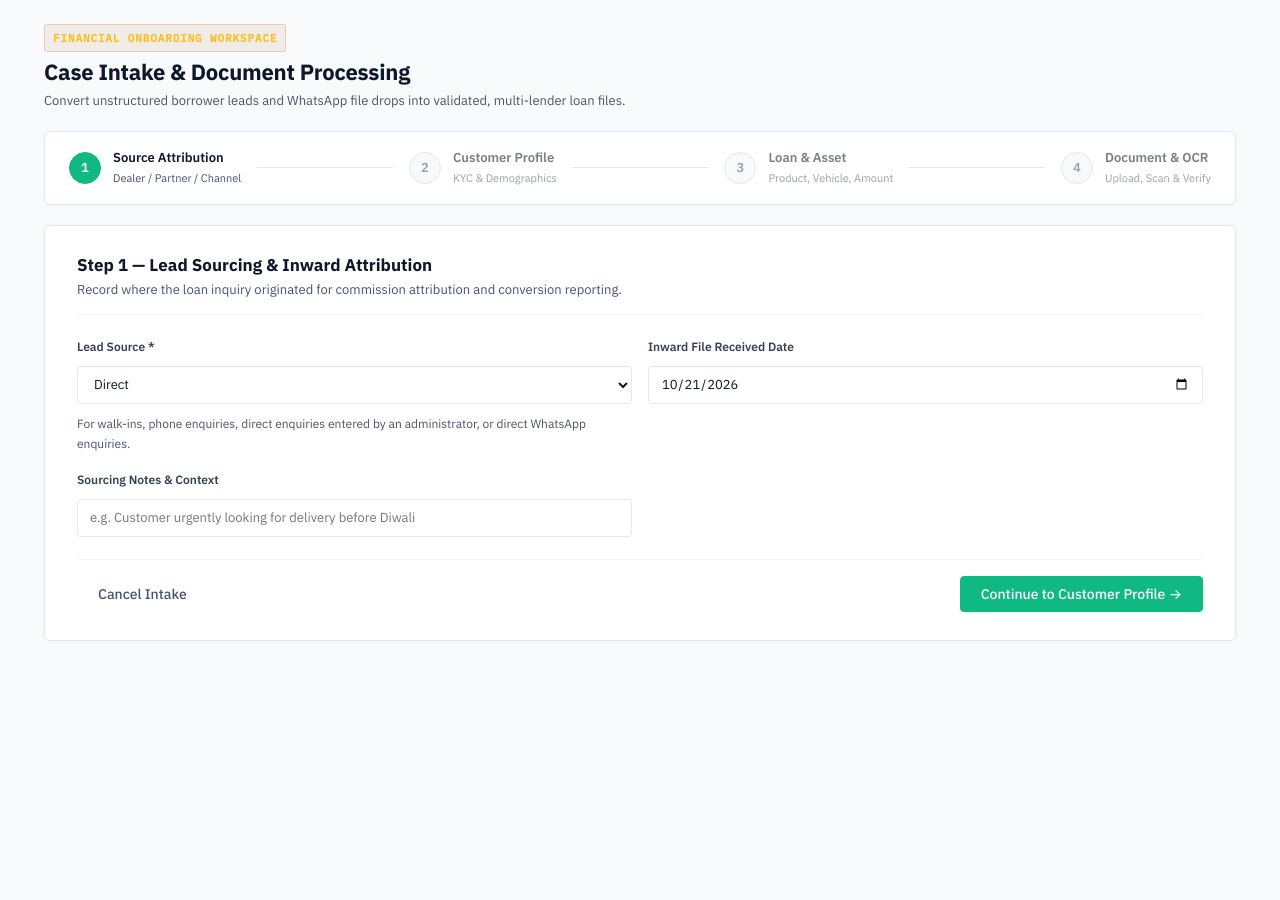
Scenario: Sidebar Simplification & Quick Lead Intake Updates › 2. Quick Lead Intake Source Dropdown (CaseIntakeWorkspace) › blocks advancing when Referral is selected but no partner is chosen
This screenshot has width=1280, height=900.
Step 1. Select "Referral" in the dropdown labelled "Lead Source *" → (354, 385), box [77,366,632,404]
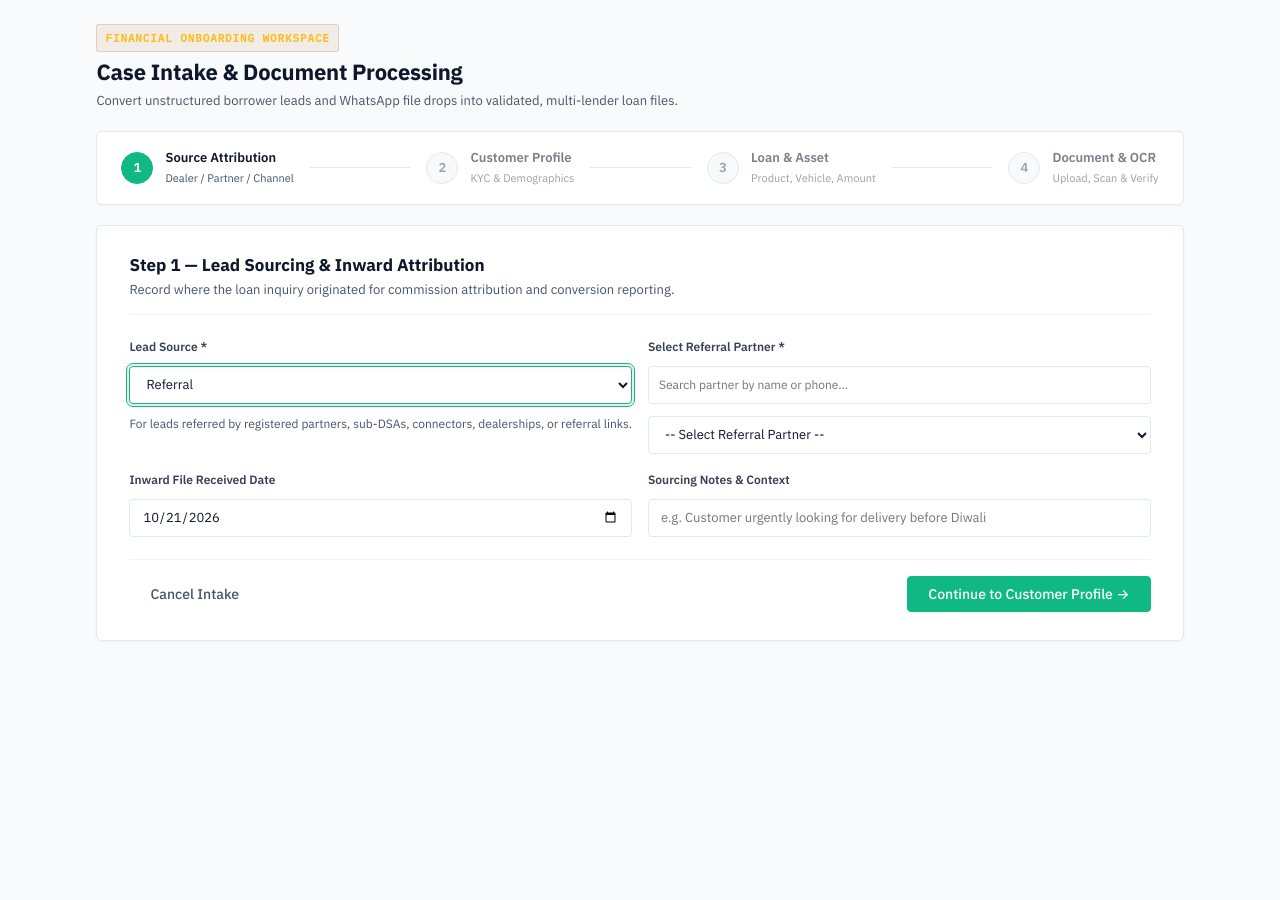
Step 2. Click the button "Continue to Customer Profile →" → click(1029, 594), box [907,576,1151,612]
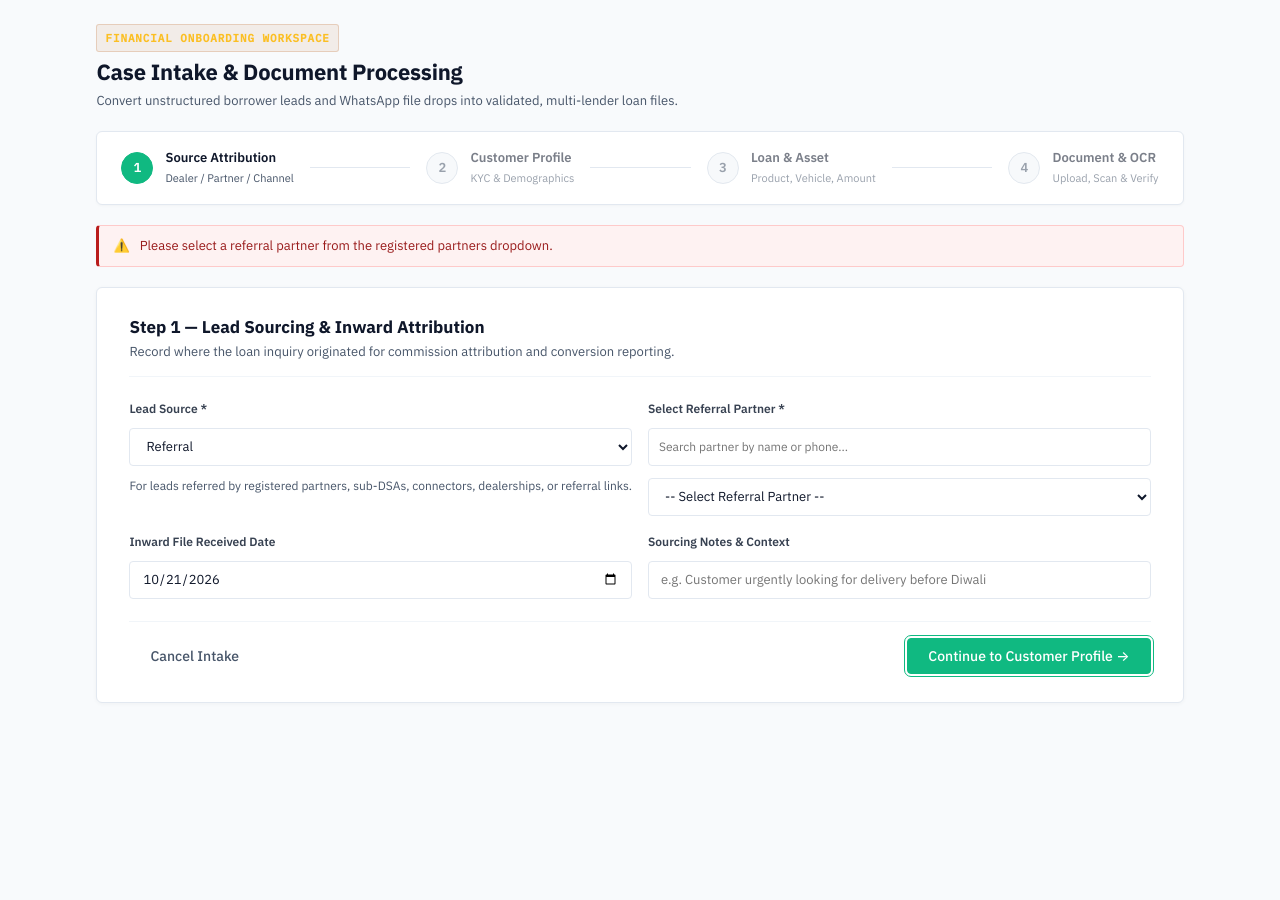
Expected: the heading "Step 1 — Lead Sourcing & Inward Attribution" is shown, [129,316,484,338]
Expected: the text "Please select a referral partner" is shown, [140,237,553,254]
